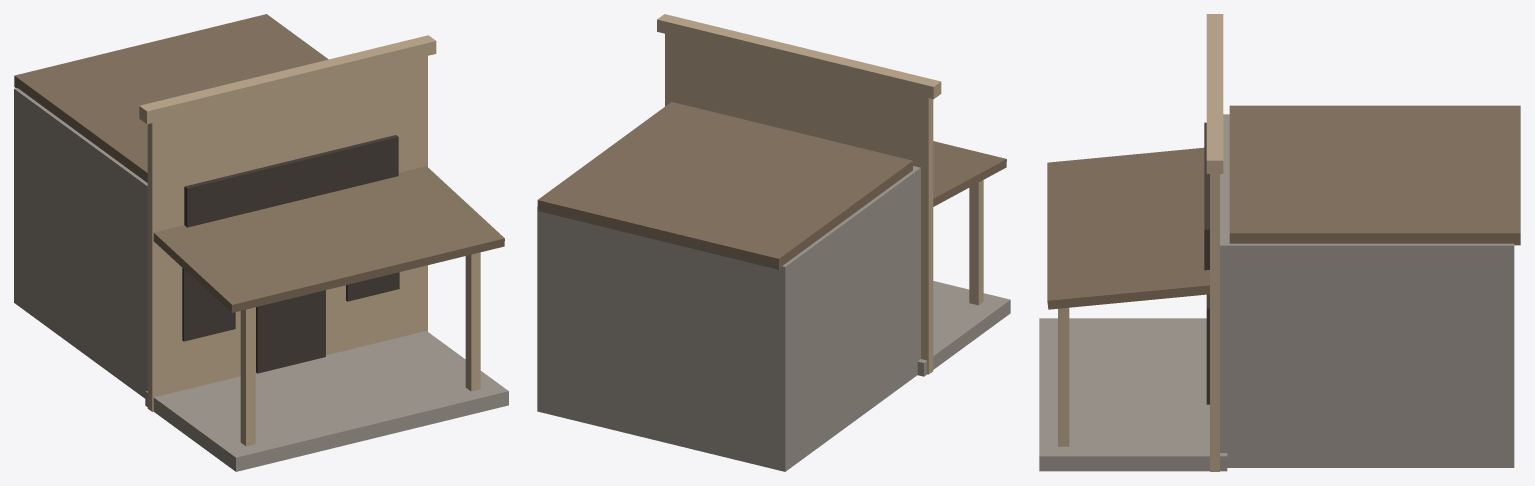
File: Storefront_Gray.glb
3 views of the same model, side by side, from view 1: azimuth 30°, elevation 25°; view 2: azimuth 150°, elevation 25°; view 3: azimuth 270°, elevation 25° (orthographic). The views are drawn at different scales.
Visible parts, largest first — view 1: Storefront_Gray; view 2: Storefront_Gray; view 3: Storefront_Gray.
Boxes of the visible parts, x1,y1,x2,y2 form: Storefront_Gray: (14,14,508,471); Storefront_Gray: (537,14,1010,471); Storefront_Gray: (1039,14,1520,471).
Size of the model in its own units: 4.24 by 4.25 by 5.89.
